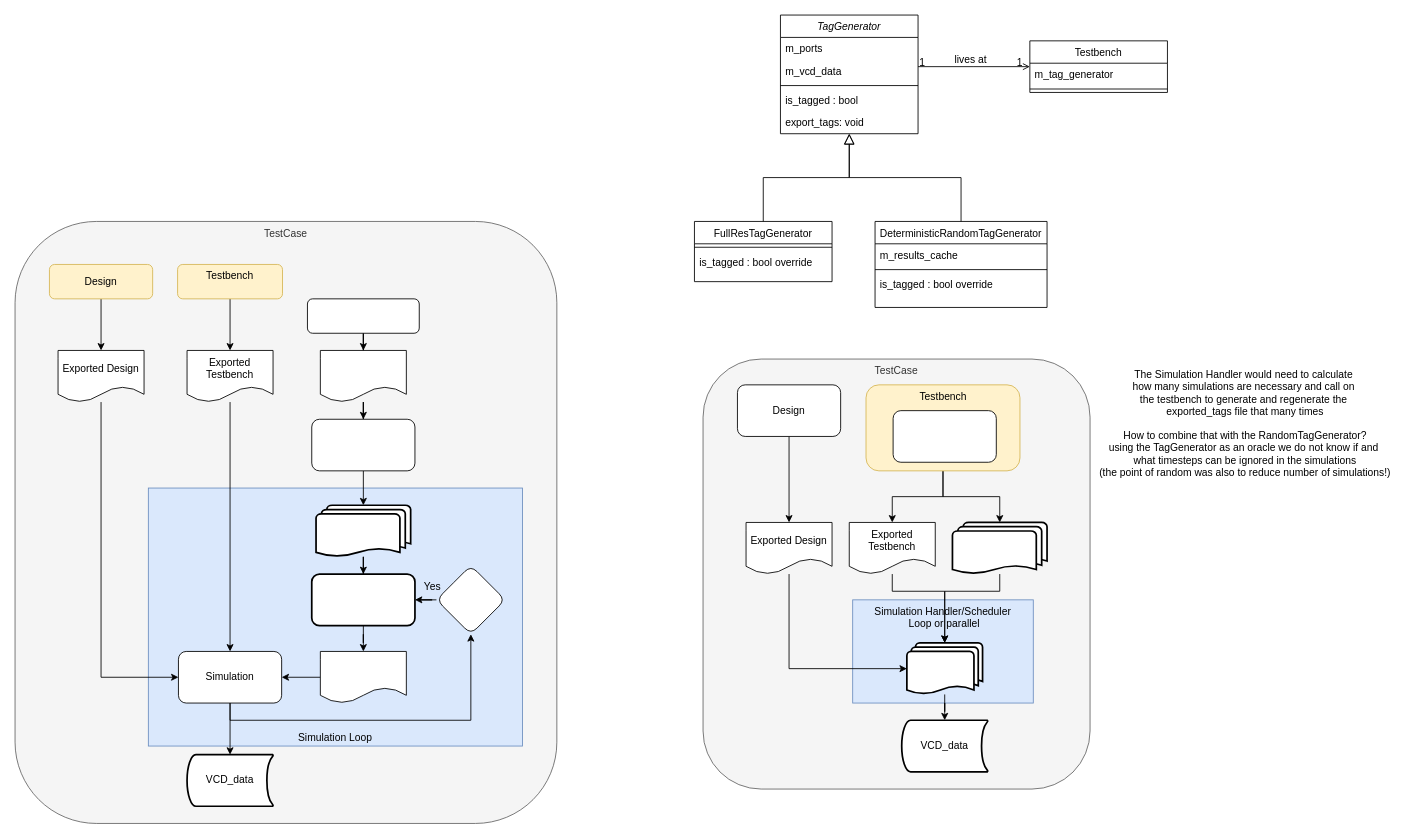
Some shapes in this 1415 by 839 pixel diagram are drawn without their labels. Here are the shapes that lost their labels. From the top down, the centre of each, then its label:
At [363,315]: "FullResTagGeneration()".
At [362,376]: "Tag_map".
At [363,444]: "Tag_splitting()".
At [944,436]: "TestGenerator".
At [363,530]: "tag_batches".
At [999,547]: "Exported Tag files".
At [362,599]: "export_tags()".
At [470,599]: "batch left?".
At [362,677]: "Exported tags file".
At [944,668]: "Simulations".
